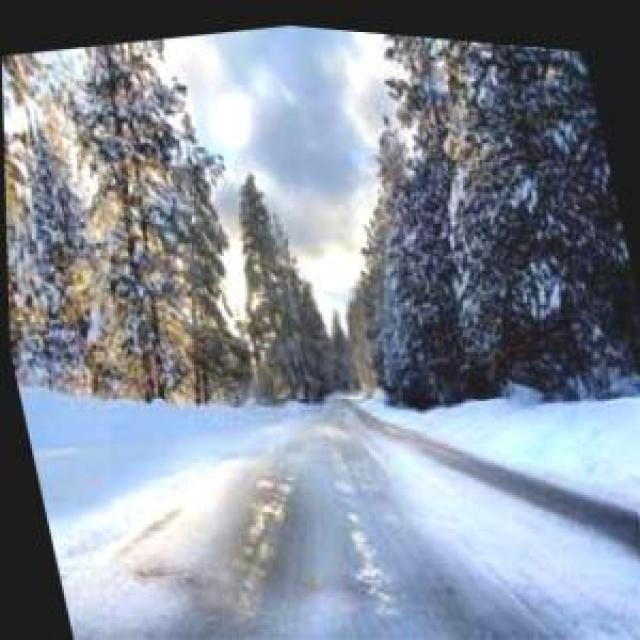ice-road: (111, 401, 640, 638)
